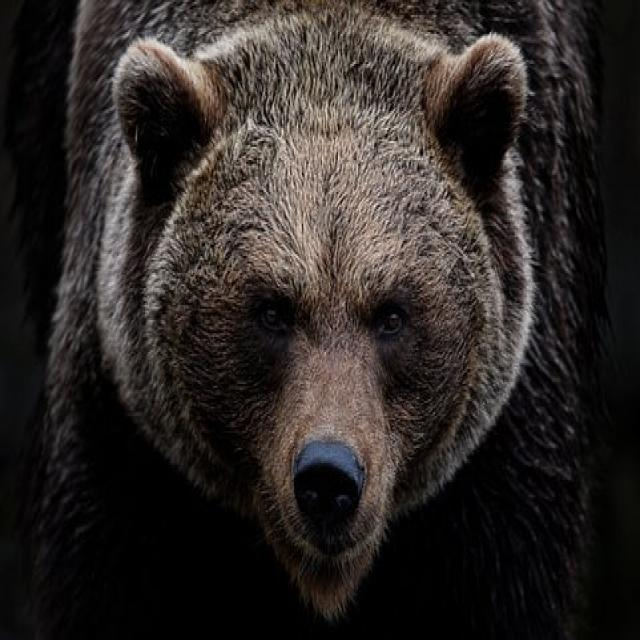Bear: (0, 0, 617, 640)
